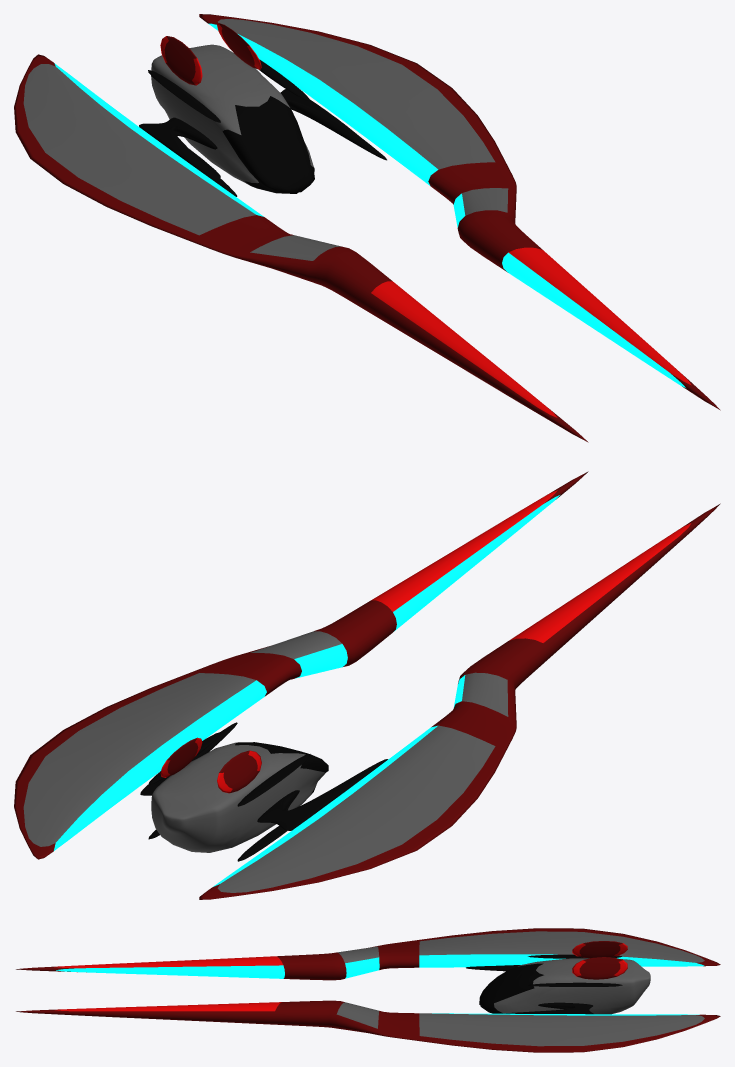
The model's file is foxShip_better.fbx.
3 views of the same model, one above another, from view 1: azimuth 30°, elevation 25°; view 2: azimuth 150°, elevation 25°; view 3: azimuth 270°, elevation 25° (orthographic). The views are drawn at different scales.
Parts seen in each view (by area): view 1: pasted__pCube2; view 2: pasted__pCube2; view 3: pasted__pCube2.
Part boxes in pixels (x1,y1,x2,y2): pasted__pCube2: (14,14,720,442); pasted__pCube2: (14,471,720,899); pasted__pCube2: (16,928,720,1052).
Size of the model in its own units: 13.28 by 2.98 by 31.69.
